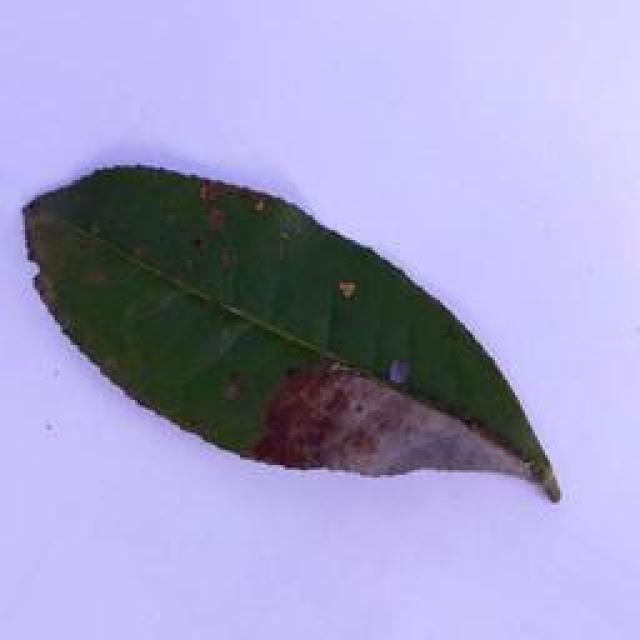Gray Blight: (25, 158, 564, 507)
